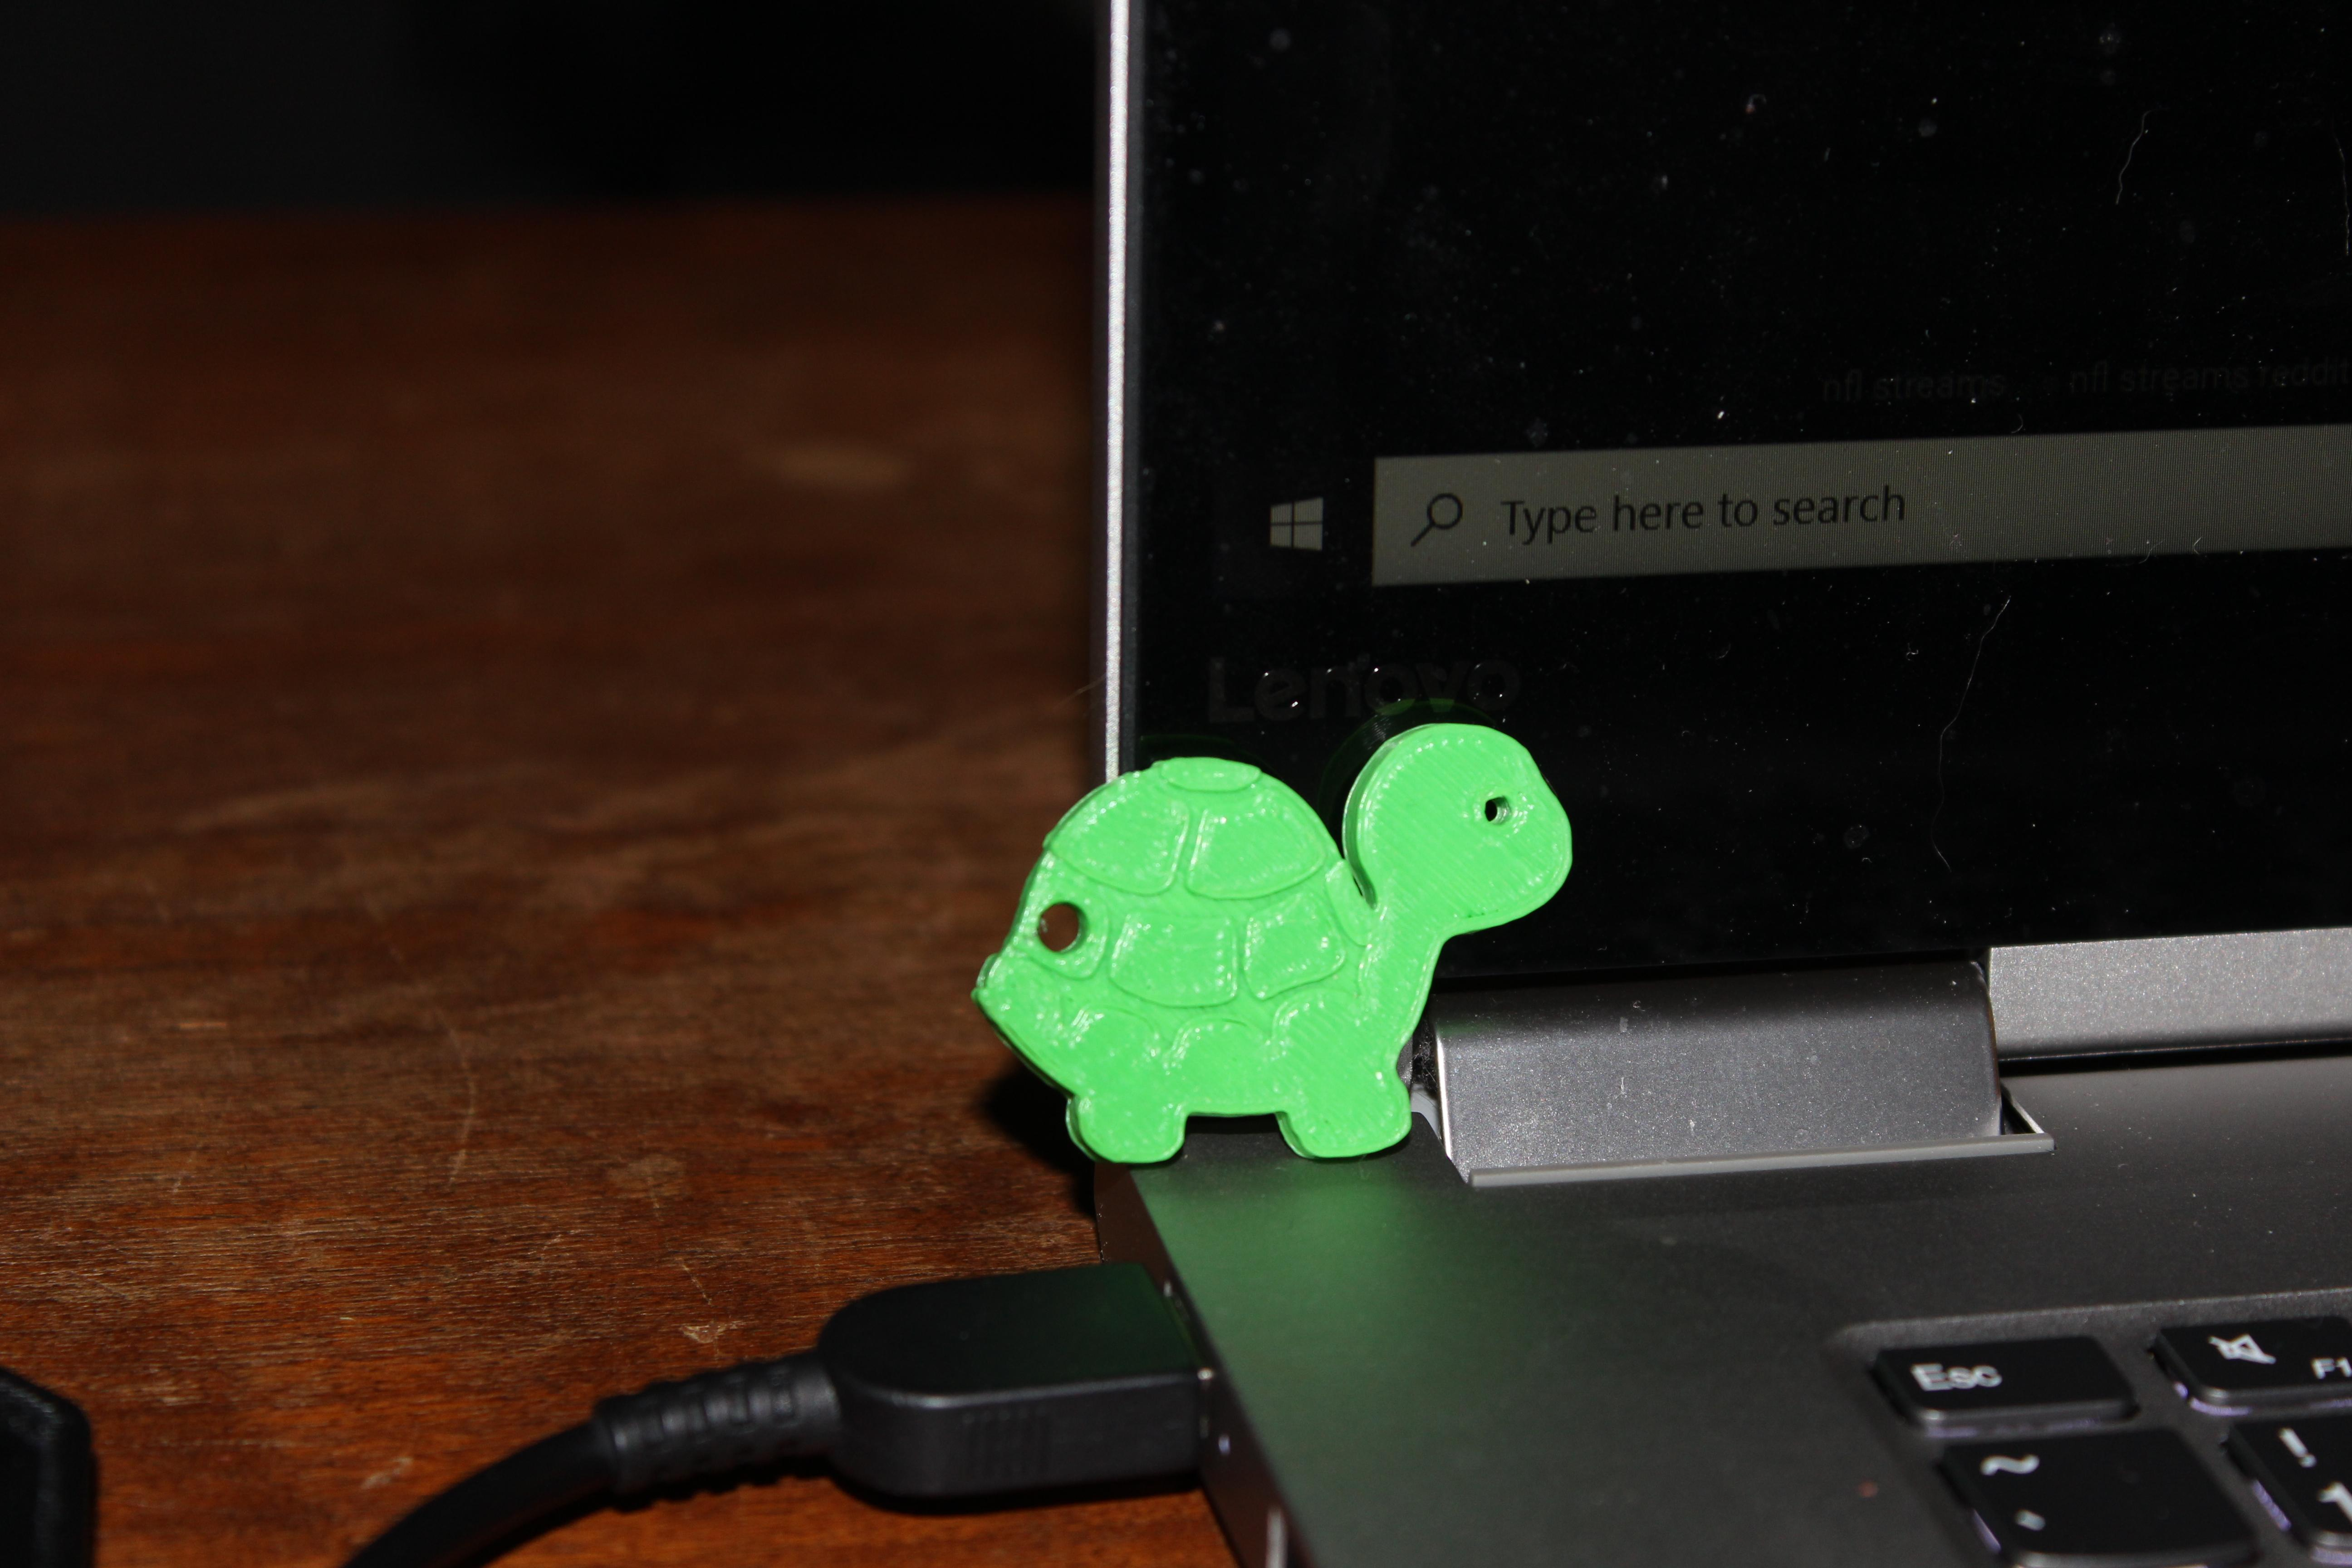turtle: (936, 686, 1607, 1215)
